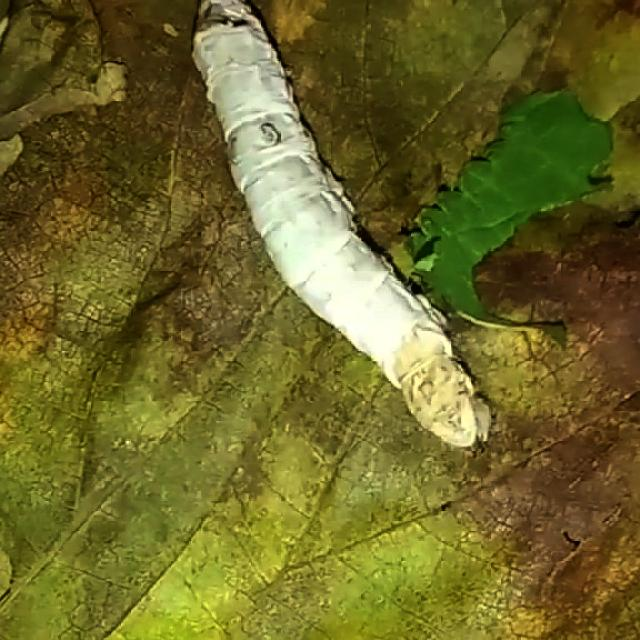Grasserie: (148, 0, 557, 484)
